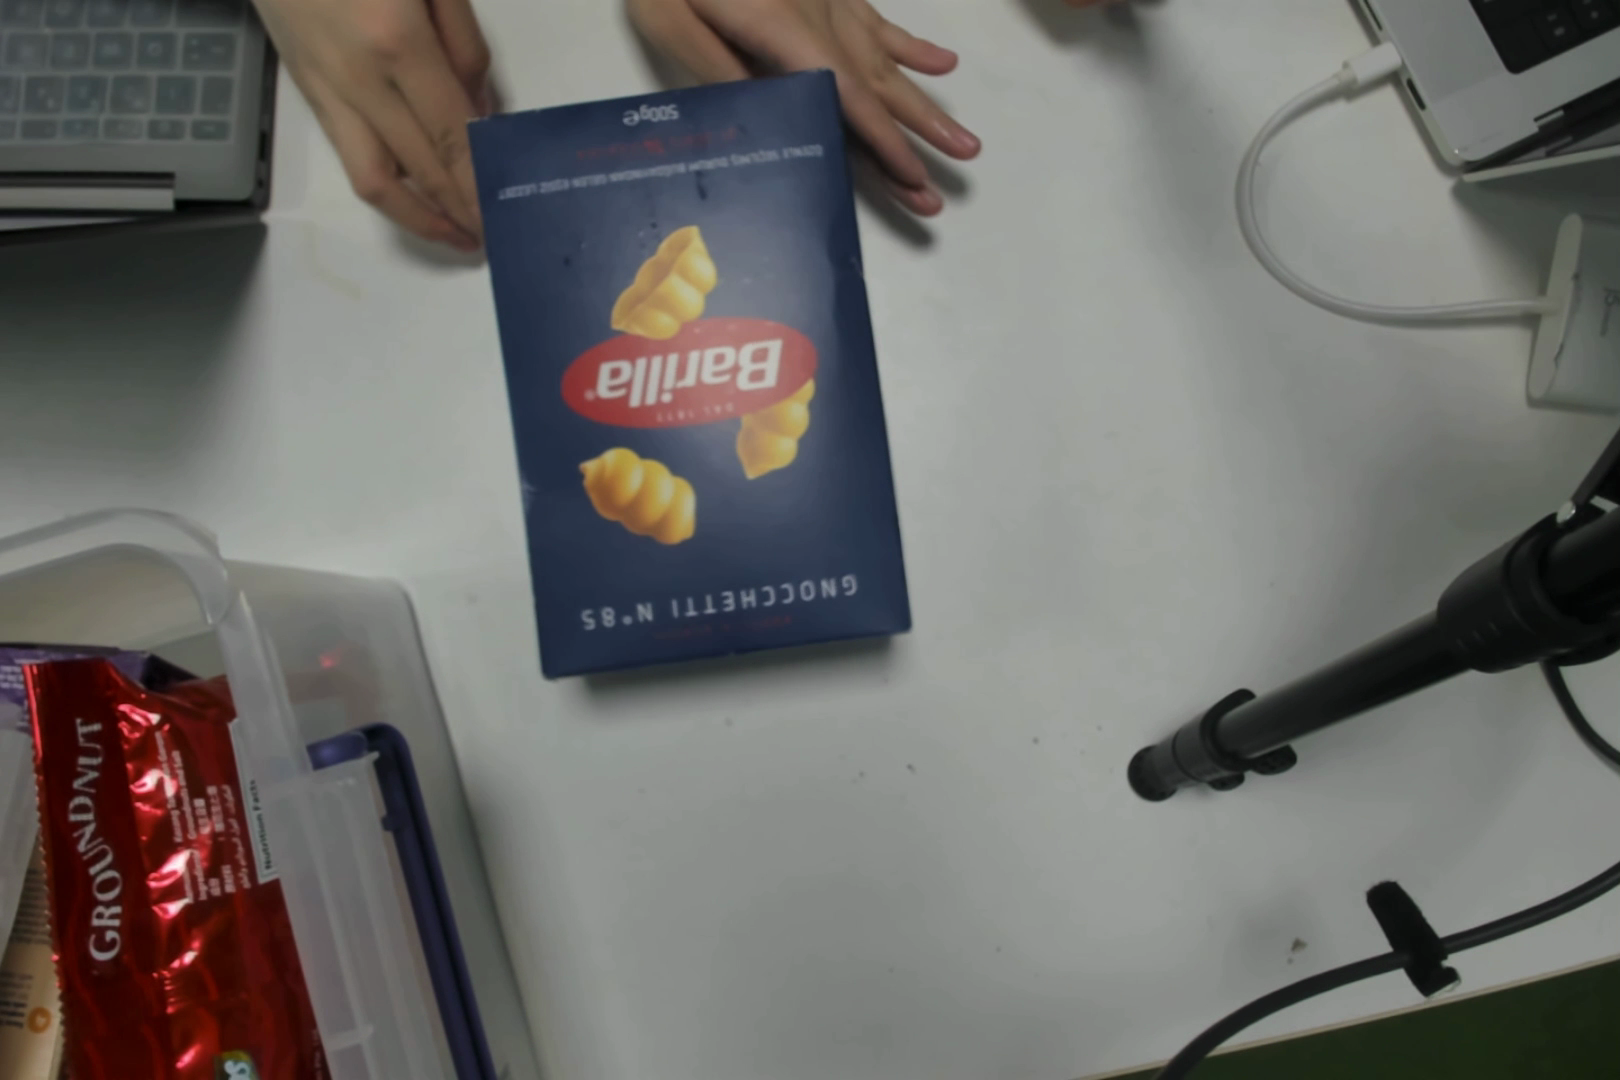Pasta_500-599g_NonHalal_NonHealthy: (524, 106, 893, 638)
